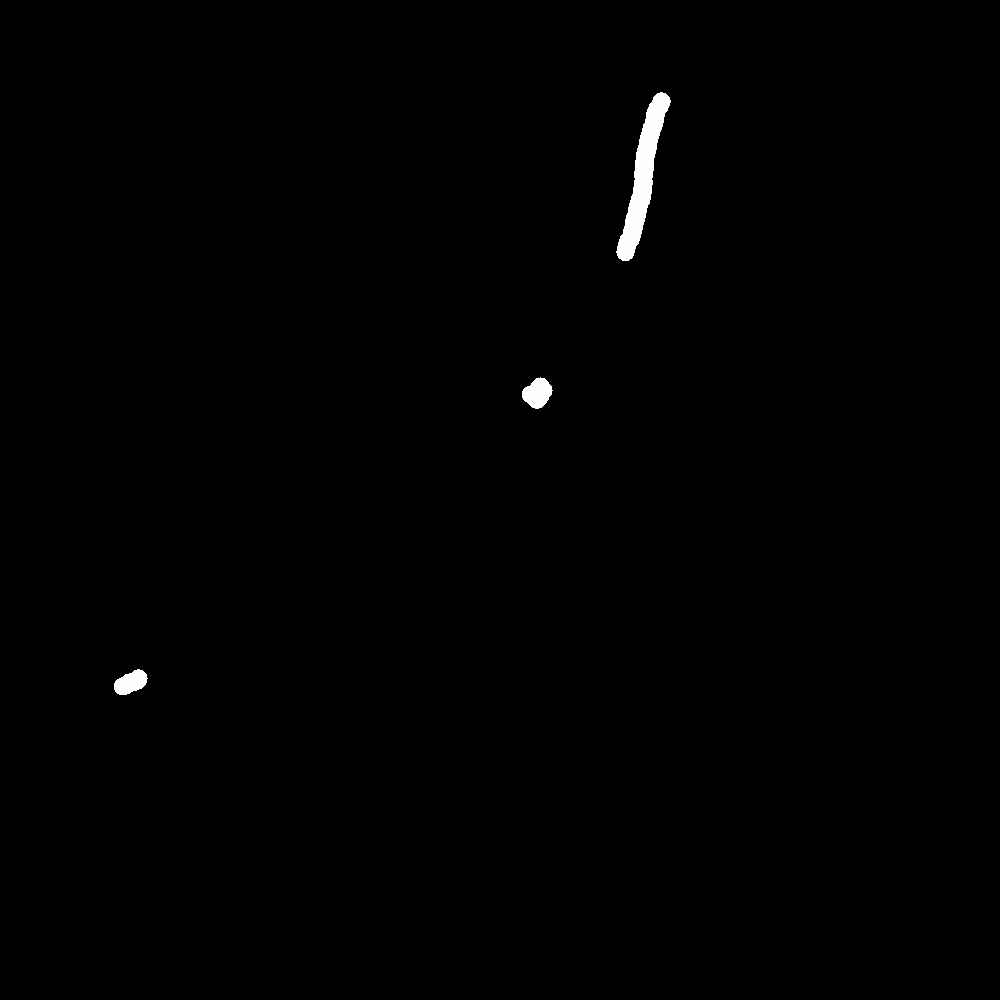illegal: (622, 142, 654, 227)
